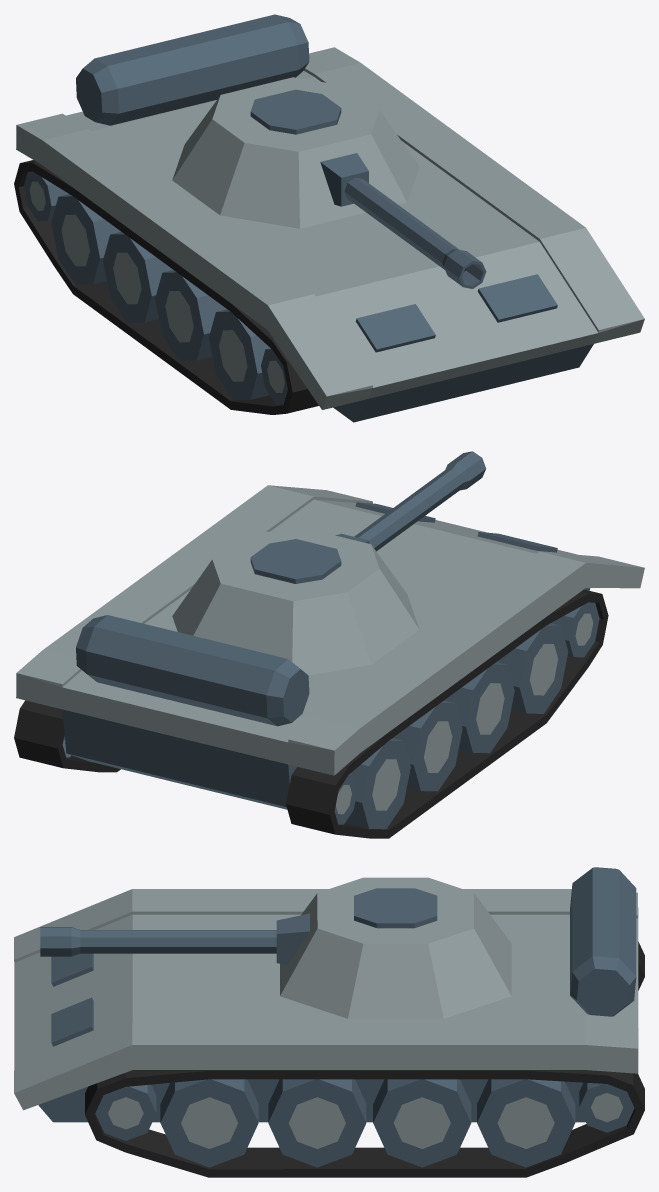
The model's file is Tank_03.fbx.
3 renders of one model, top to bottom at view 1: azimuth 30°, elevation 25°; view 2: azimuth 150°, elevation 25°; view 3: azimuth 270°, elevation 25°, orthographic.
Parts seen in each view (by area): view 1: Tank_03, Tank_03_Turret, Tank_03_Barrel, Tank_03_Wheel; view 2: Tank_03, Tank_03_Turret, Tank_03_Wheel, Tank_03_Barrel; view 3: Tank_03, Tank_03_Turret, Tank_03_Barrel.
Boxes of the visible parts, x1,y1,x2,y2 form: Tank_03: [14, 14, 644, 422]; Tank_03_Turret: [172, 77, 419, 228]; Tank_03_Barrel: [320, 153, 486, 288]; Tank_03_Wheel: [155, 270, 226, 360]; Tank_03: [14, 485, 644, 838]; Tank_03_Turret: [172, 526, 419, 675]; Tank_03_Wheel: [444, 662, 514, 753]; Tank_03_Barrel: [335, 451, 486, 551]; Tank_03: [14, 867, 644, 1177]; Tank_03_Turret: [280, 877, 511, 1018]; Tank_03_Barrel: [40, 913, 309, 965].
Size of the model in its own units: 6.52 by 3.79 by 11.14.
